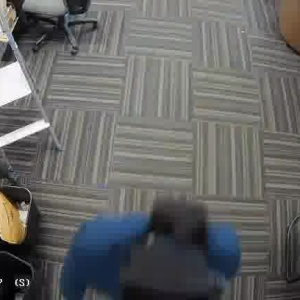person: (62, 207, 235, 298)
